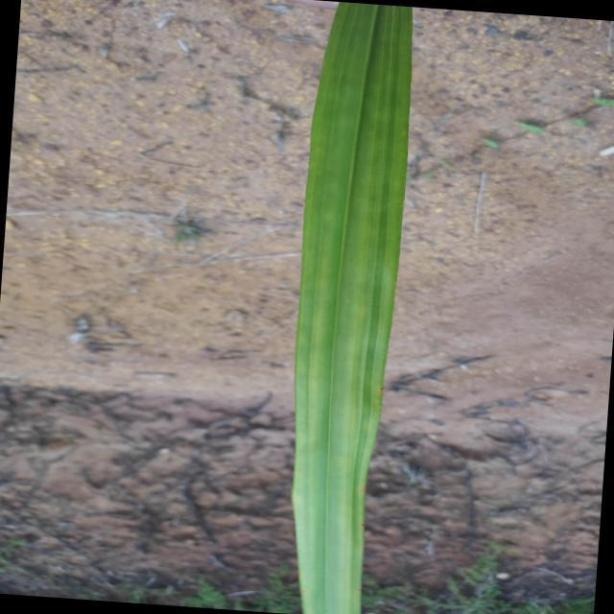nitrogen: (293, 0, 411, 600)
